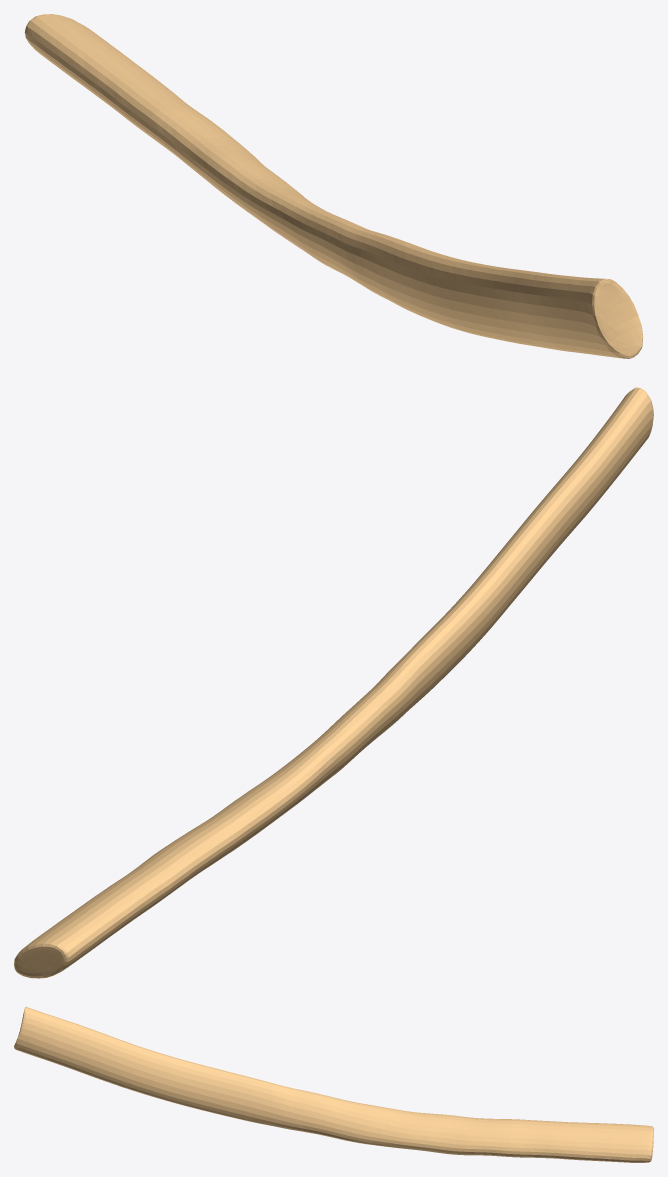
The model's file is N_phrenic.glb.
3 renders of one model, top to bottom at view 1: azimuth 30°, elevation 25°; view 2: azimuth 150°, elevation 25°; view 3: azimuth 270°, elevation 25°, orthographic. The views are drawn at different scales.
Parts seen in each view (by area): view 1: N_phrenic; view 2: N_phrenic; view 3: N_phrenic.
Boxes of the visible parts, left/top/right/bottom form: N_phrenic: left=24, top=14, right=643, bottom=358; N_phrenic: left=14, top=387, right=653, bottom=978; N_phrenic: left=14, top=1007, right=653, bottom=1162.
Bounding box in the file's own units: 0.000258 × 0.000502 × 0.00223.
